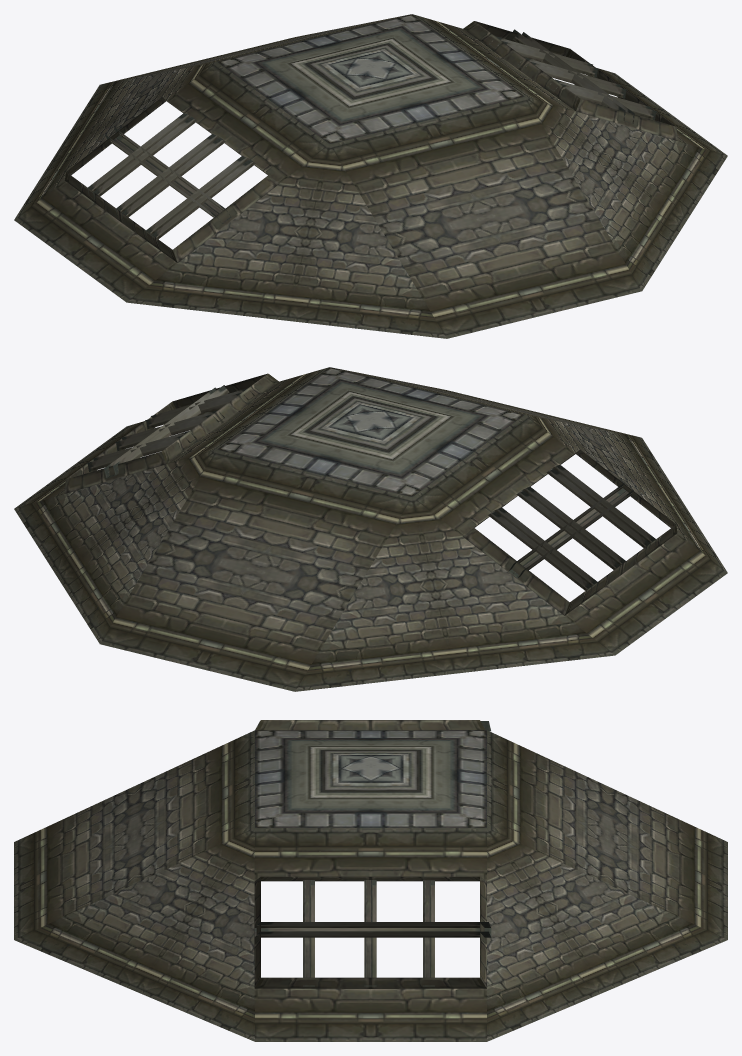
The picture shows the model from 3 angles, top to bottom: view 1: azimuth 30°, elevation 25°; view 2: azimuth 150°, elevation 25°; view 3: azimuth 270°, elevation 25°; orthographic projection. The views are drawn at different scales.
Visible parts, largest first — view 1: DN_1_4_dt01c_b1; view 2: DN_1_4_dt01c_b1; view 3: DN_1_4_dt01c_b1.
Boxes of the visible parts, x1,y1,x2,y2 form: DN_1_4_dt01c_b1: [14, 14, 727, 338]; DN_1_4_dt01c_b1: [14, 367, 727, 691]; DN_1_4_dt01c_b1: [14, 720, 727, 1041].
Size of the model in its own units: 1946 by 379 by 1946.
